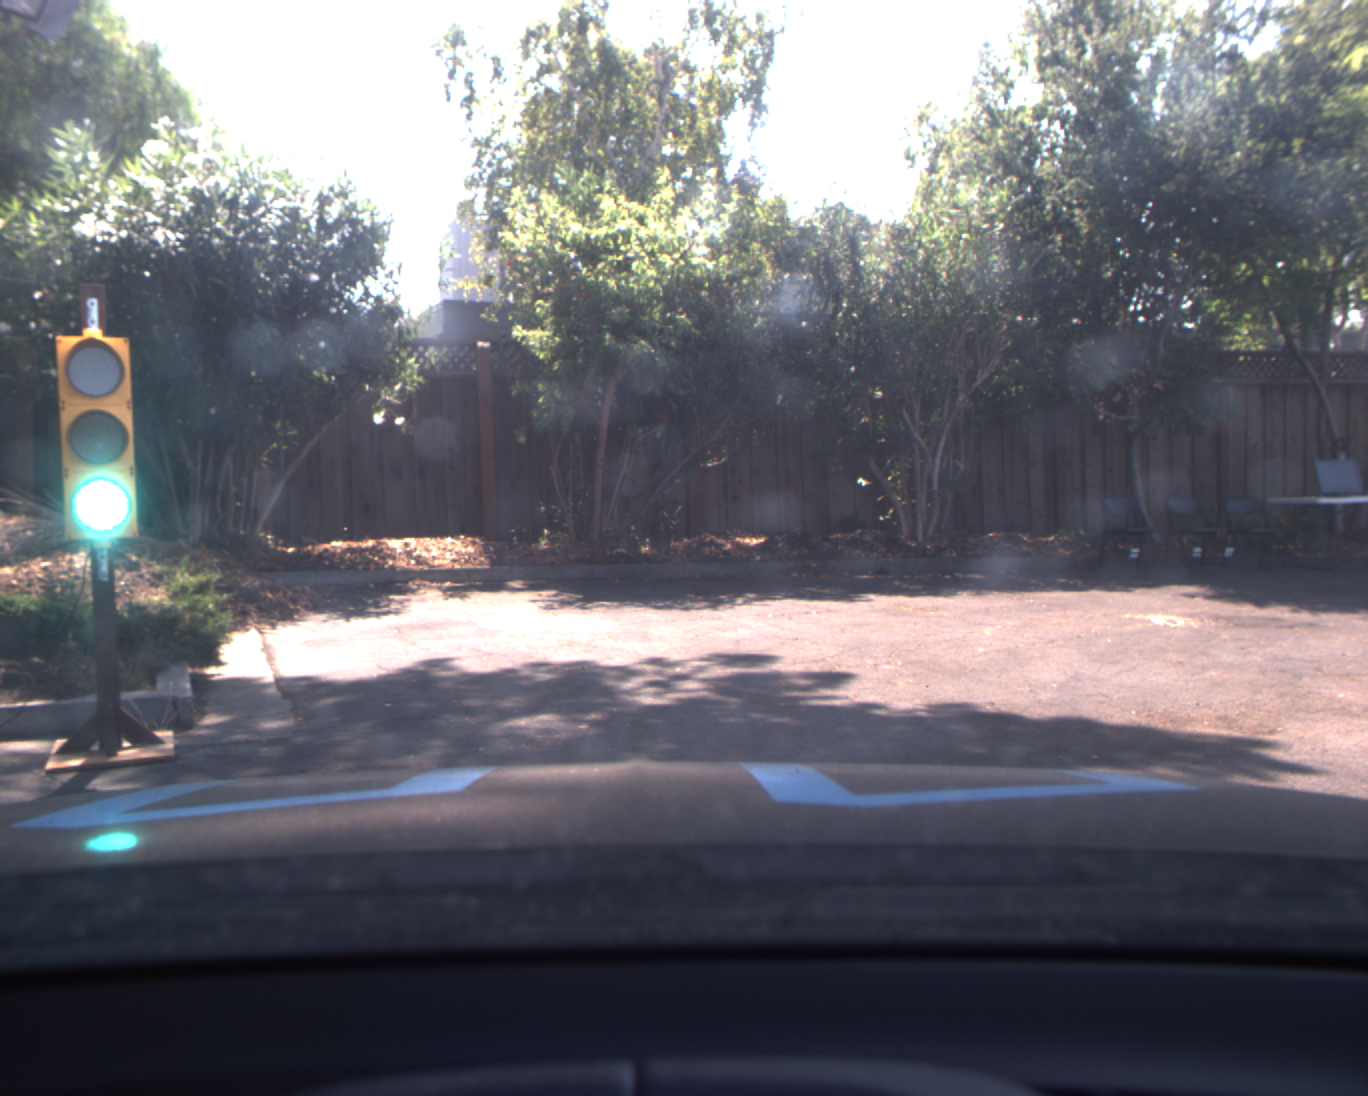green: (63, 336, 136, 541)
